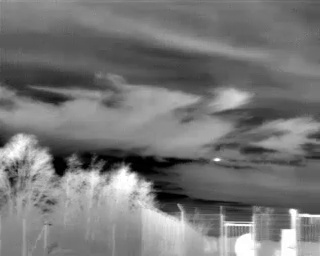HELICOPTER: (211, 154, 224, 165)
